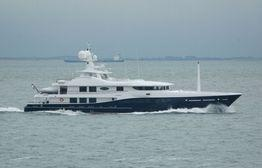yacht: (21, 39, 243, 113)
